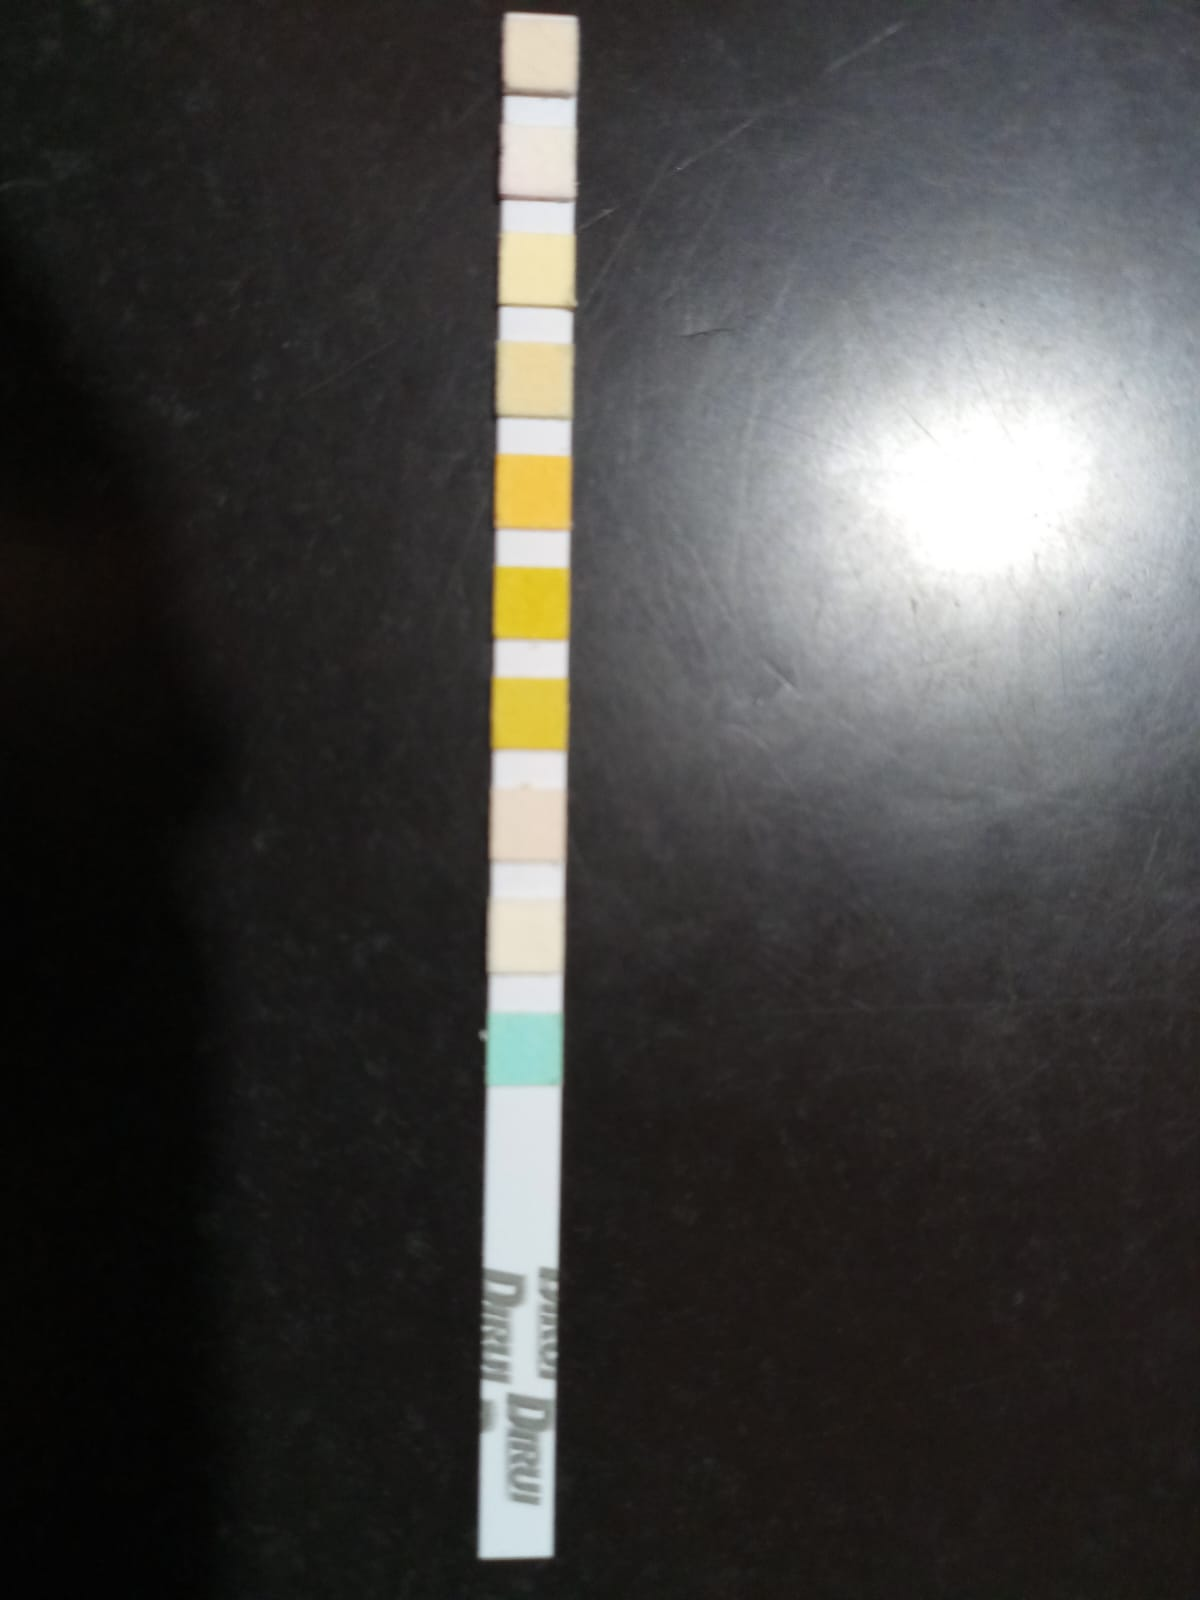color 1: (505, 21, 572, 86)
color 10: (489, 1018, 558, 1080)
color 2: (503, 129, 572, 194)
color 3: (502, 236, 571, 302)
color 4: (500, 345, 570, 413)
color 5: (499, 459, 568, 525)
color 6: (495, 569, 567, 636)
color 7: (493, 682, 563, 745)
color 8: (493, 792, 562, 860)
color 9: (492, 902, 560, 969)
